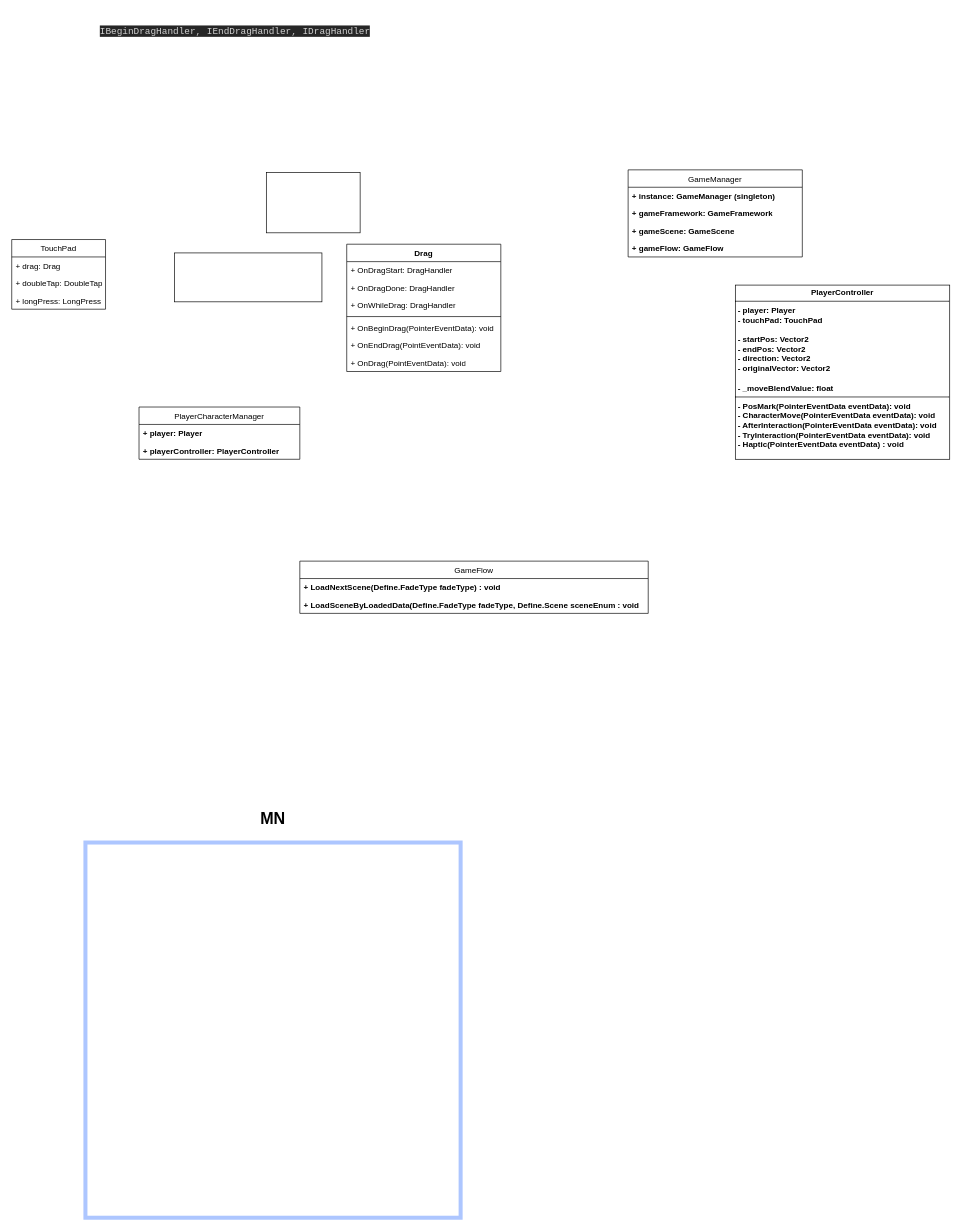
Some shapes in this 961 by 1231 pixel diagram are drawn without their labels. The shapes that lost their labels are listed below. From the top down, each one's centre as x and y in pixels, then its label:
At point (313, 202): "«interface» IBeginDragHandler IEndDragHandler IDragHandler".
At point (248, 277): "«delegate» +DragHandler(PointEventData eventData)".
